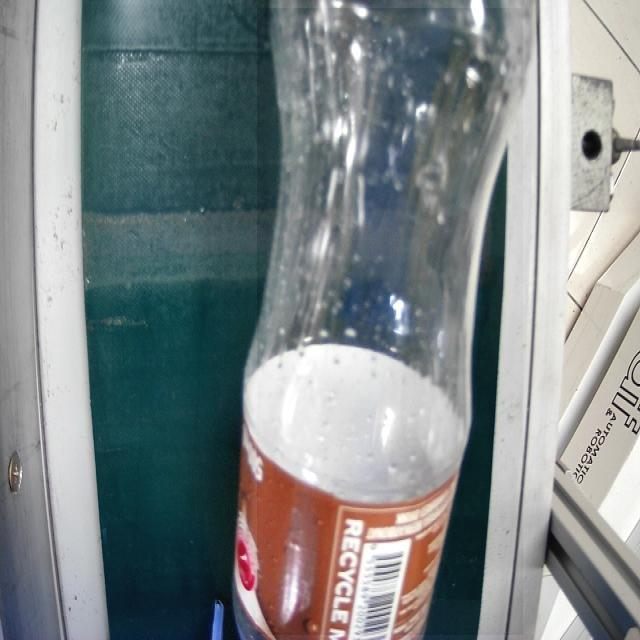Pet_Bottle: (257, 8, 523, 635)
